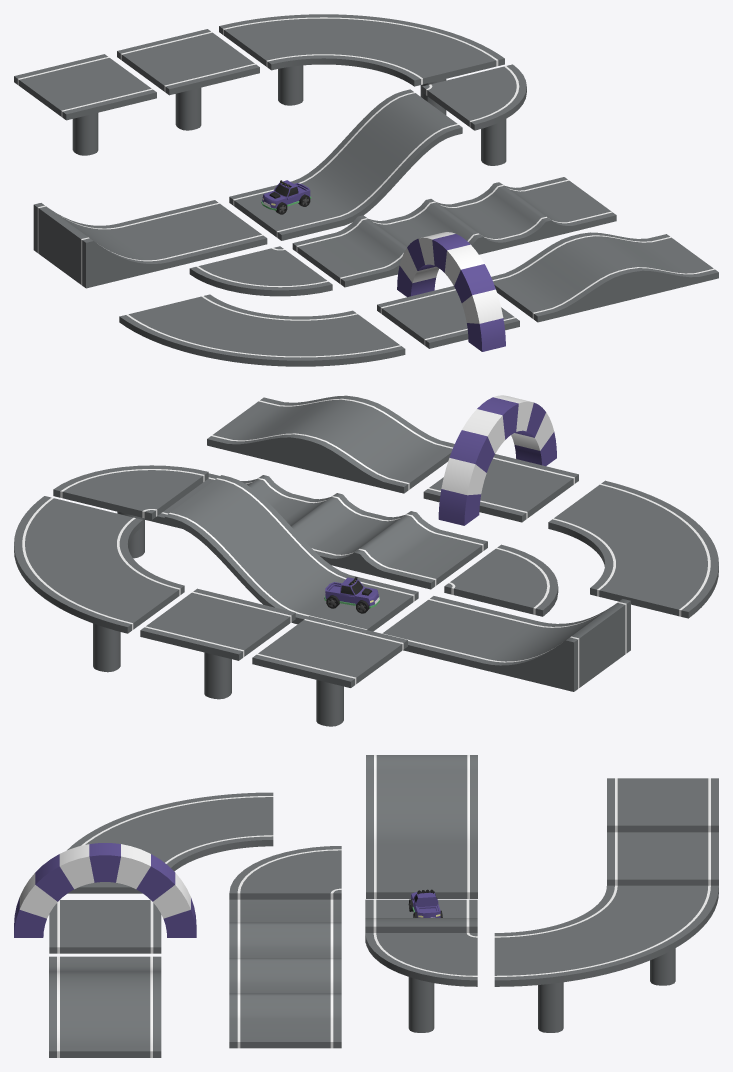
The model's file is ultimate_low-poly_track_builder_pack.glb.
3 renders of one model, top to bottom at view 1: azimuth 30°, elevation 25°; view 2: azimuth 150°, elevation 25°; view 3: azimuth 270°, elevation 25°, orthographic. The views are drawn at different scales.
Visible parts, largest first — view 1: small_hilly_street, big_elevated_curve, ascending_street, big_curve, big_hilly_street, ramp, streight_elevated_street(2), streight_elevated_street, arc, small_elevated_curve, small_curve, straight_street (+1 smaller); view 2: big_elevated_curve, big_hilly_street, ascending_street, big_curve, ramp, small_hilly_street, streight_elevated_street(2), streight_elevated_street, arc, small_elevated_curve, small_curve, straight_street (+1 smaller); view 3: small_hilly_street, big_elevated_curve, ramp, big_hilly_street, big_curve, arc, small_elevated_curve, streight_elevated_street(2), streight_elevated_street, straight_street, small_curve, ascending_street (+1 smaller).
Boxes of the visible parts, <box> form: small_hilly_street: <box>292,177,616,287</box>; big_elevated_curve: <box>219,14,504,114</box>; ascending_street: <box>229,89,462,240</box>; big_curve: <box>119,294,405,366</box>; big_hilly_street: <box>491,232,718,322</box>; ramp: <box>33,200,267,288</box>; streight_elevated_street(2): <box>14,54,156,155</box>; streight_elevated_street: <box>117,29,259,130</box>; arc: <box>397,232,505,351</box>; small_elevated_curve: <box>422,64,526,165</box>; small_curve: <box>189,246,332,296</box>; straight_street: <box>377,286,519,348</box>; big_elevated_curve: <box>14,496,184,672</box>; big_hilly_street: <box>207,395,454,493</box>; ascending_street: <box>164,475,418,631</box>; big_curve: <box>548,480,718,618</box>; ramp: <box>382,596,630,691</box>; small_hilly_street: <box>145,473,487,589</box>; streight_elevated_street(2): <box>252,616,407,726</box>; streight_elevated_street: <box>140,588,295,699</box>; arc: <box>438,395,556,525</box>; small_elevated_curve: <box>53,465,208,558</box>; small_curve: <box>444,544,558,616</box>; straight_street: <box>423,454,578,522</box>; small_hilly_street: <box>229,899,341,1048</box>; big_elevated_curve: <box>494,885,718,1032</box>; ramp: <box>366,755,477,898</box>; big_hilly_street: <box>49,956,161,1057</box>; big_curve: <box>67,792,273,893</box>; arc: <box>14,843,196,937</box>; small_elevated_curve: <box>365,933,477,1032</box>; streight_elevated_street(2): <box>607,778,718,832</box>; streight_elevated_street: <box>607,832,718,885</box>; straight_street: <box>49,900,161,953</box>; small_curve: <box>229,846,341,899</box>; ascending_street: <box>365,899,477,943</box>.
Bounding box in the file's own units: 69.88 × 10.4 × 80.42.
Materials: 1 (1 with a texture image).
